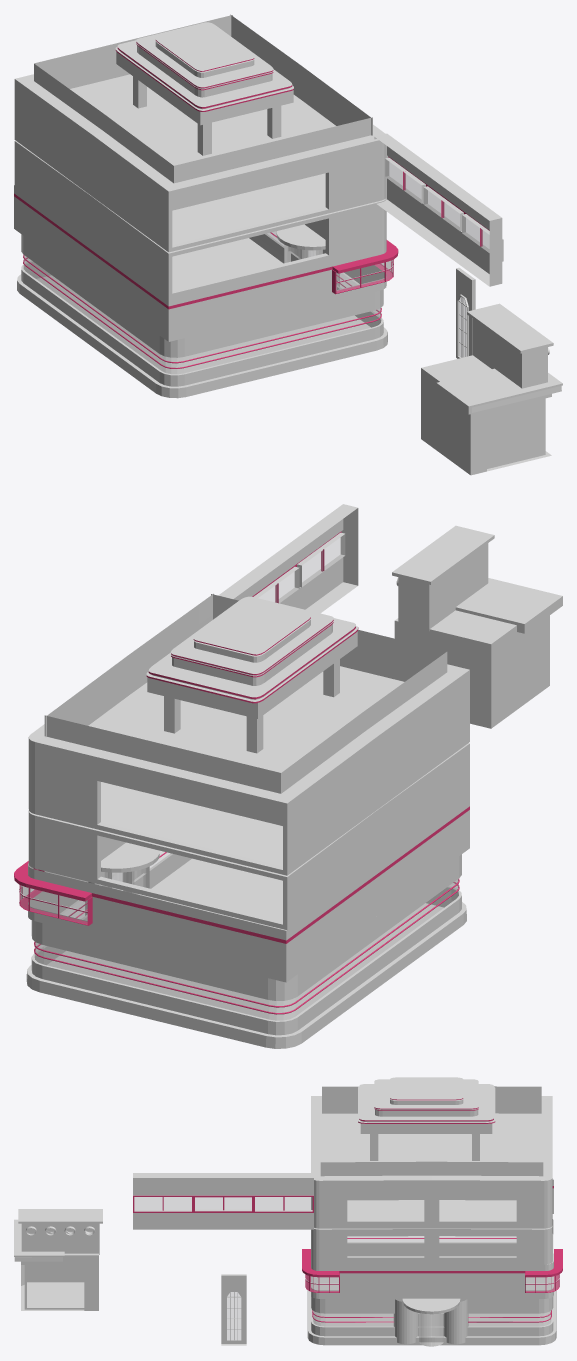
The model's file is Midtown Gym and more windows.fbx.
3 renders of one model, top to bottom at view 1: azimuth 30°, elevation 25°; view 2: azimuth 150°, elevation 25°; view 3: azimuth 270°, elevation 25°, orthographic. The views are drawn at different scales.
Parts seen in each view (by area): view 1: Cube.213, Cube.160, Cube.214, Cube.212, Cube.175, Cube.220, Cube.219, Cube.023, Cube.024, Cube.025, Cube.194, Cylinder (+1 smaller); view 2: Cube.213, Cube.160, Cube.214, Cube.212, Cube.175, Cube.220, Cube.023, Cube.219, Cube.024, Cube.025, Cube.194, Cylinder; view 3: Cube.213, Cube.160, Cube.219, Cube.214, Cube.212, Cube.175, Cube.220, Cube.023, Cube.024, Cylinder, Cube.159, Cylinder.088 (+4 smaller).
Boxes of the visible parts, box(x1,y1,x2,y2) form: Cube.213: box(14, 33, 386, 252); Cube.160: box(17, 231, 387, 398); Cube.214: box(14, 140, 386, 298); Cube.212: box(14, 185, 398, 341); Cube.175: box(115, 22, 293, 125); Cube.220: box(34, 14, 372, 183); Cube.219: box(374, 133, 503, 286); Cube.023: box(421, 355, 551, 475); Cube.024: box(467, 303, 553, 388); Cube.025: box(436, 368, 562, 414); Cube.194: box(23, 232, 381, 368); Cylinder: box(276, 224, 325, 259); Cube.213: box(28, 615, 469, 875); Cube.160: box(26, 851, 466, 1048); Cube.214: box(28, 743, 469, 929); Cube.212: box(14, 797, 469, 982); Cube.175: box(146, 596, 358, 718); Cube.220: box(44, 593, 447, 793); Cube.023: box(394, 610, 549, 728); Cube.219: box(218, 504, 358, 613); Cube.024: box(392, 525, 494, 631); Cube.025: box(455, 578, 562, 633); Cube.194: box(34, 852, 459, 1014); Cylinder: box(101, 842, 159, 893); Cube.213: box(311, 1096, 552, 1228); Cube.160: box(307, 1219, 556, 1345); Cube.219: box(133, 1173, 313, 1229); Cube.214: box(311, 1200, 552, 1264); Cube.212: box(302, 1179, 562, 1298); Cube.175: box(358, 1077, 495, 1133); Cube.220: box(320, 1086, 543, 1176); Cube.023: box(21, 1253, 98, 1310); Cube.024: box(18, 1209, 102, 1254); Cylinder: box(402, 1298, 460, 1346); Cube.159: box(221, 1274, 246, 1345); Cylinder.088: box(443, 1299, 468, 1344).
Bounding box in the file's own units: 1847 × 1846 × 4318.
